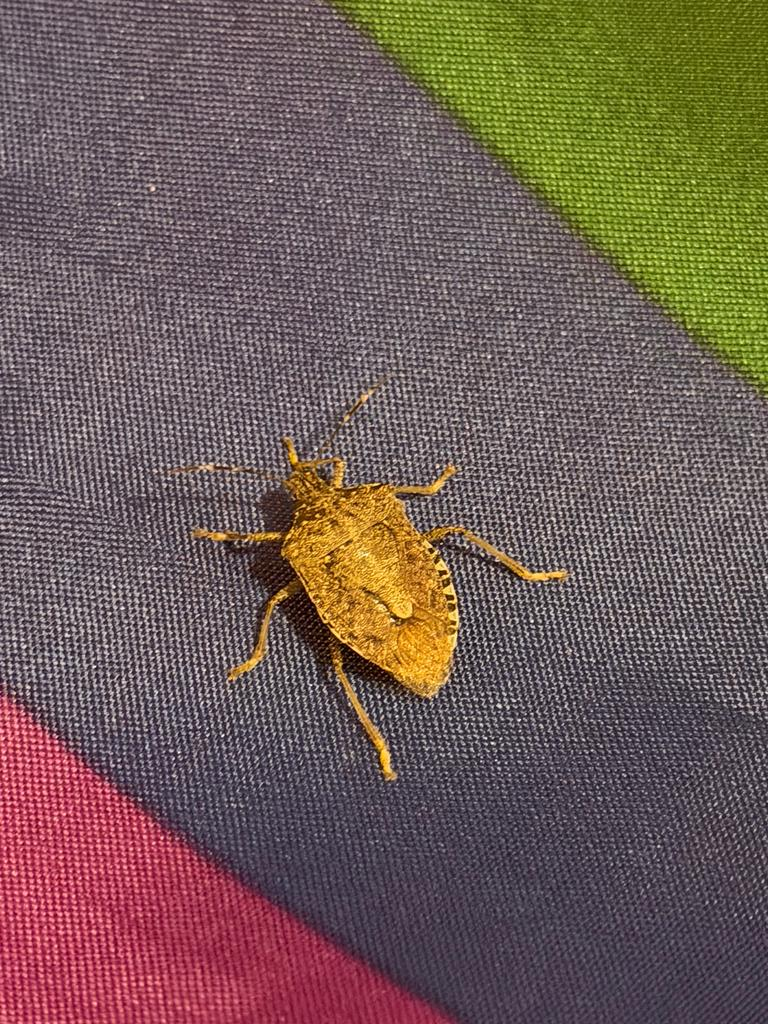stink_bugs: (141, 338, 604, 817)
